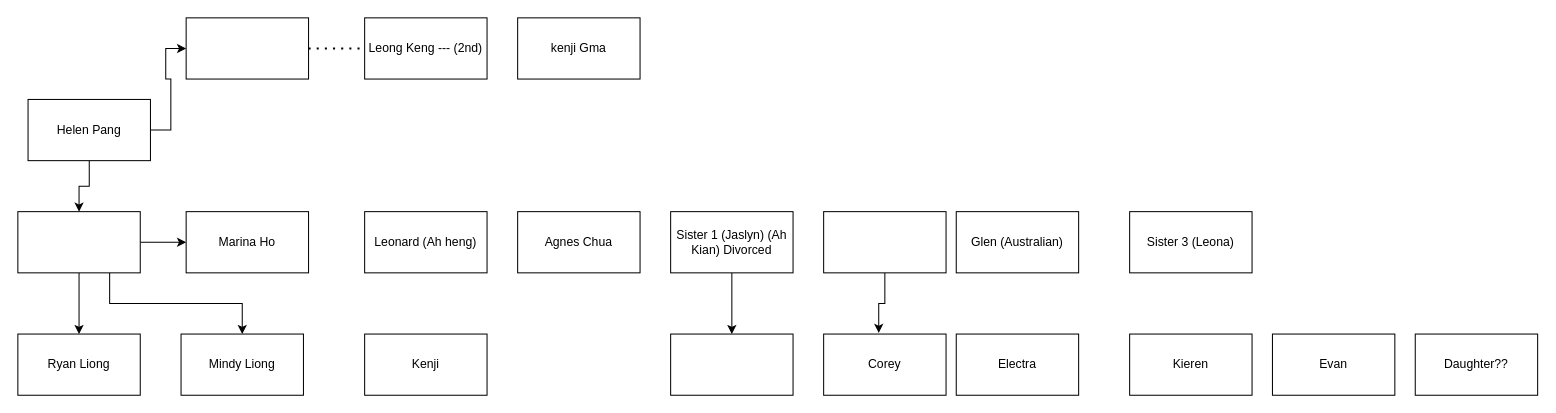
The diagram is 1556 pixels wide and 413 high, and some of its shapes have lost their labels. Here are the shapes that lost their labels. From the top down, the centre of each, then its label:
pixel 247 48: Roger Leong (4th)
pixel 78 242: Chris
pixel 884 242: Sister. 2 (Rachyl) (Sisi)
pixel 731 364: Ian
